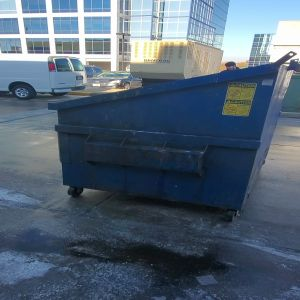Dumpster: (54, 71, 283, 223)
Person: (222, 61, 241, 72)
